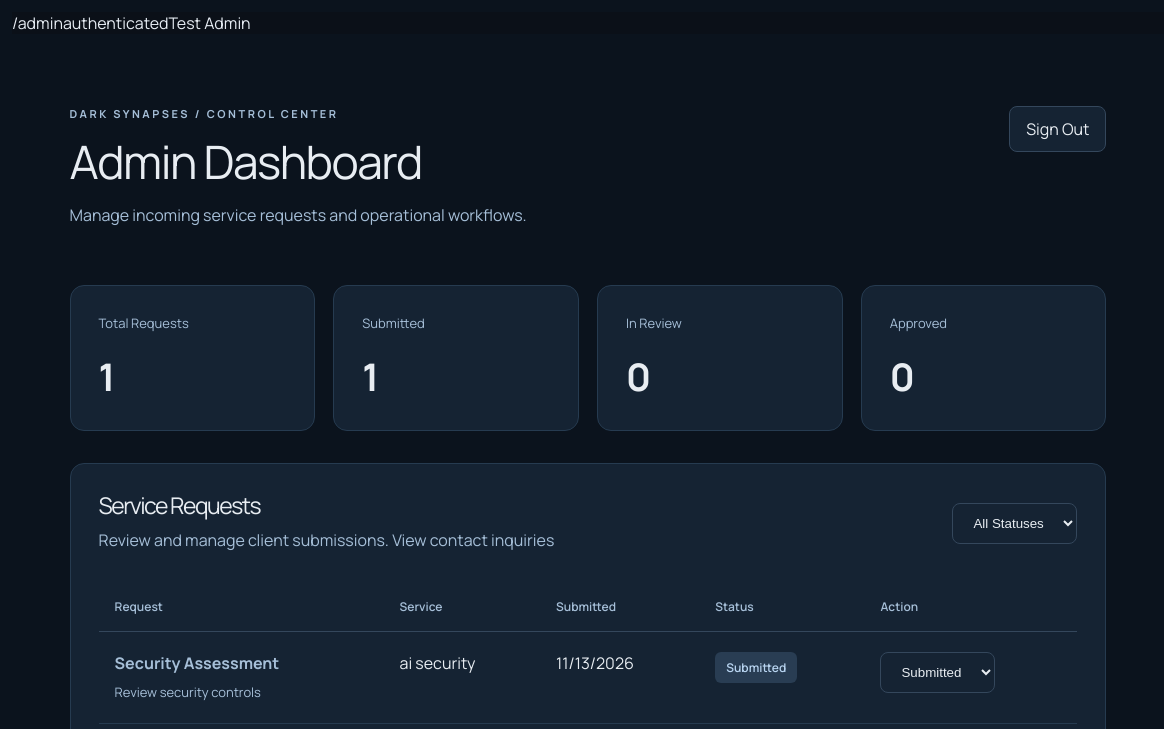
Test: AdminDashboardPage integration › keeps the session when logout fails
This screenshot has width=1164, height=729.
Expected: the text "Security Assessment" is shown, left=115, top=652, right=279, bottom=674
Click the button "Sign Out".
click(1058, 129)  # box left=1009, top=106, right=1106, bottom=152
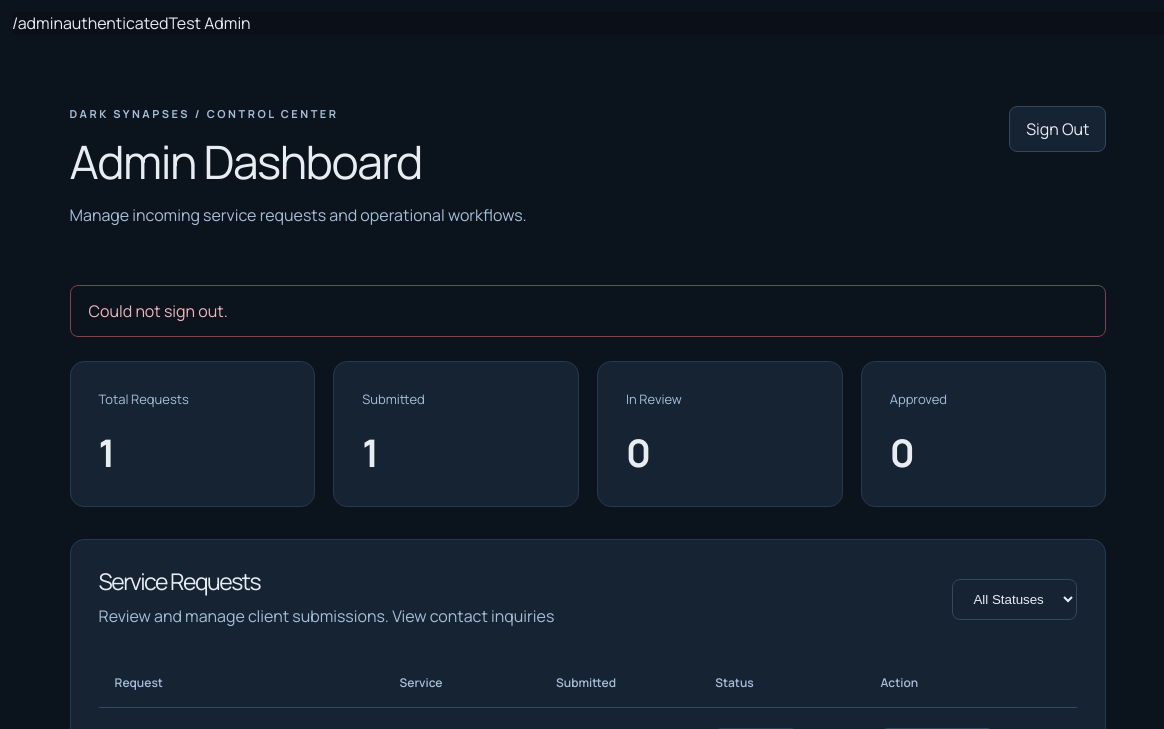
Expected: the text with test id "status" reads "authenticated", left=63, top=12, right=169, bottom=34
Result: the message reads "Could not sign out." at left=89, top=300, right=228, bottom=322
